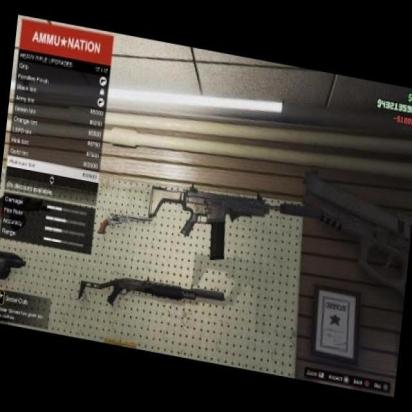Gun: (146, 181, 320, 258), (78, 272, 227, 306)
